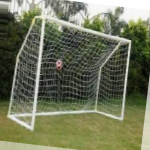goals: (6, 14, 129, 133)
